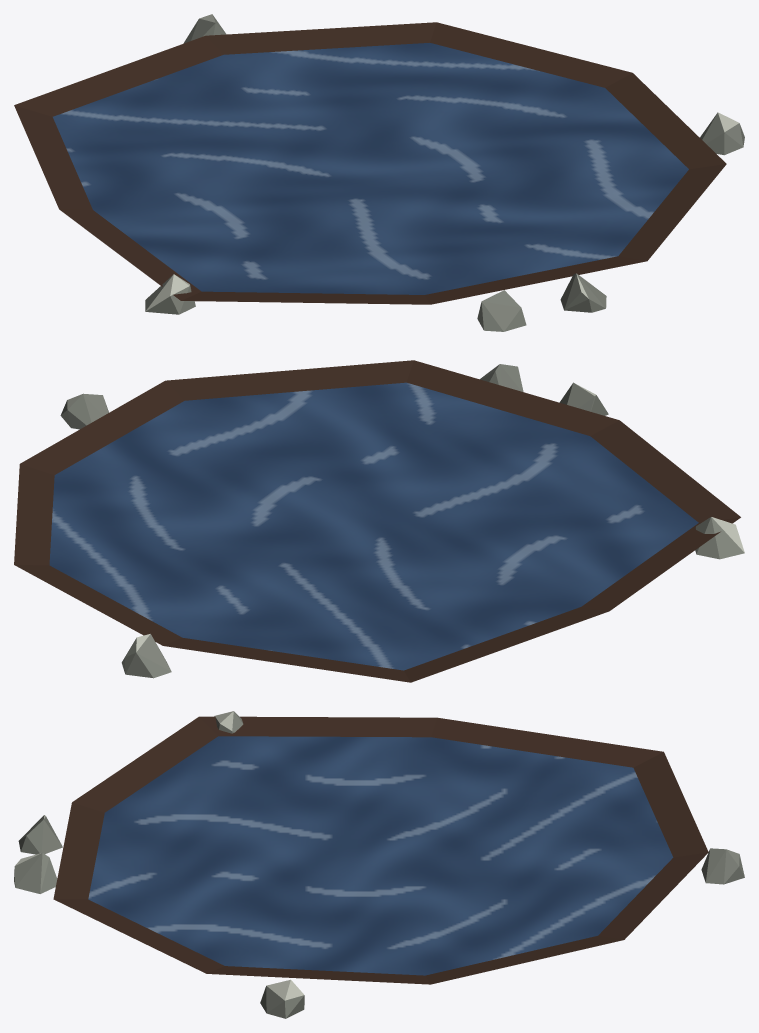
File: deco_pond.glb
3 renders of one model, top to bottom at view 1: azimuth 30°, elevation 25°; view 2: azimuth 150°, elevation 25°; view 3: azimuth 270°, elevation 25°, orthographic. The views are drawn at different scales.
Parts seen in each view (by area): view 1: deco_pond_mesh; view 2: deco_pond_mesh; view 3: deco_pond_mesh.
Part boxes in pixels (x1=…): deco_pond_mesh: x1=14, y1=14, x2=744, y2=331; deco_pond_mesh: x1=14, y1=360, x2=744, y2=682; deco_pond_mesh: x1=14, y1=711, x2=744, y2=1018.
Size of the model in its own units: 0.9528 by 0.042 by 1.
Materials: 4 (1 with a texture image).
